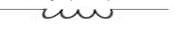inductor: (30, 0, 121, 24)
